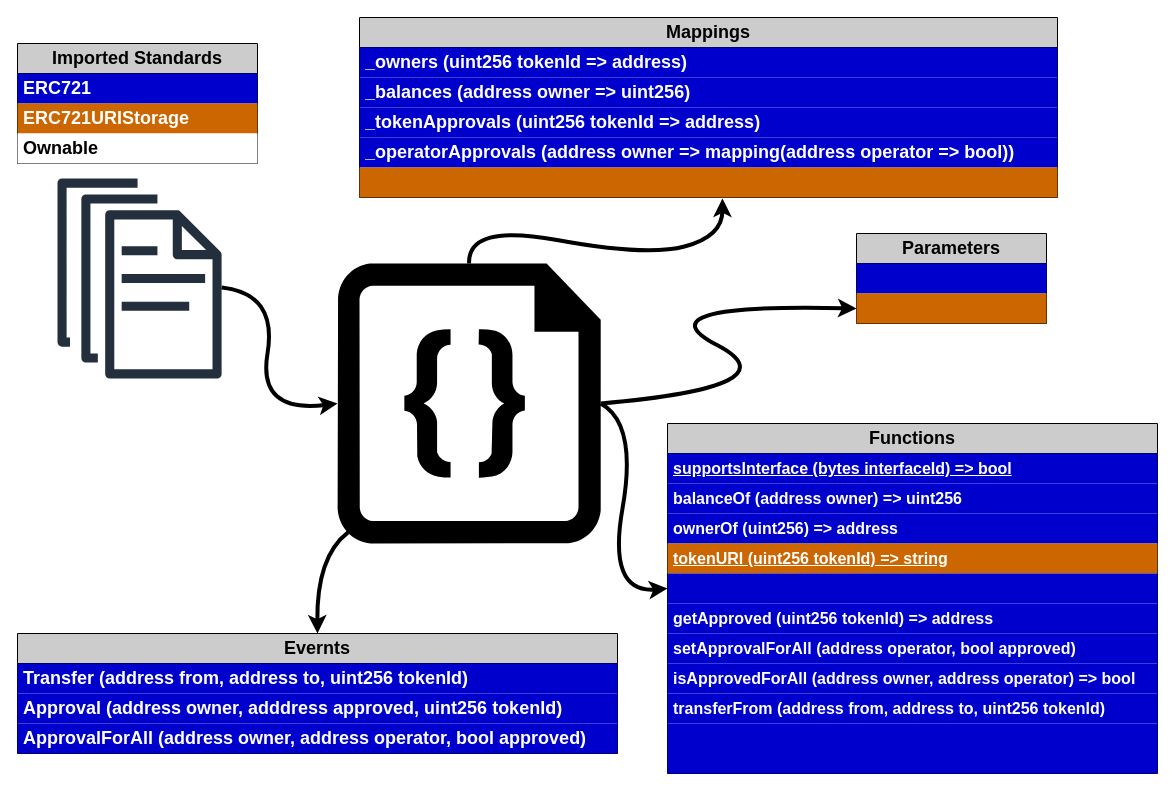
Some shapes in this 1175 by 791 pixel diagram are drawn without their labels. Each missing label, with the centre of its shape:
_tokenURIs (uint256 tokenId => string): [708,182]
approve (address to, uint256 tokenId): [912,588]
safeTransferFrom (address from, address to, uint256 tokenId, bytes data): [912,748]
Solidity Non-Fungible Token Smart Contract "AnotherNFT.sol": [468,403]
string tokenURI: [951,308]
uint256 tokenId: [951,278]
